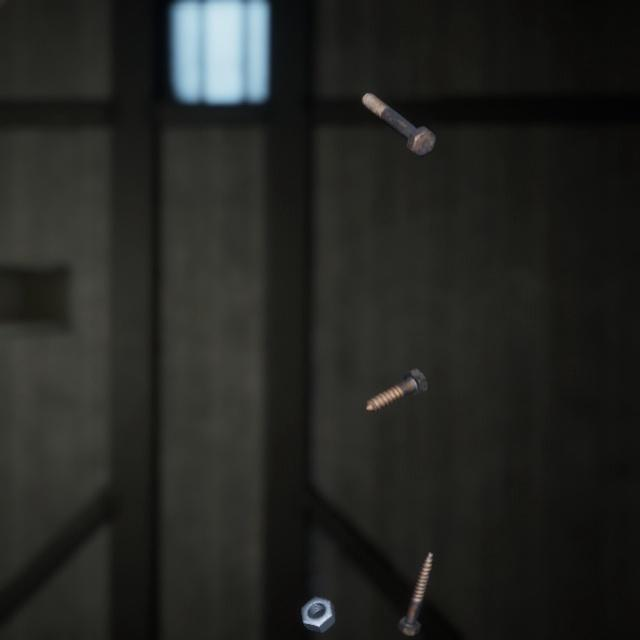bolt: (357, 77, 440, 149), (392, 525, 436, 618), (361, 345, 432, 398)
nut: (298, 569, 341, 613)
